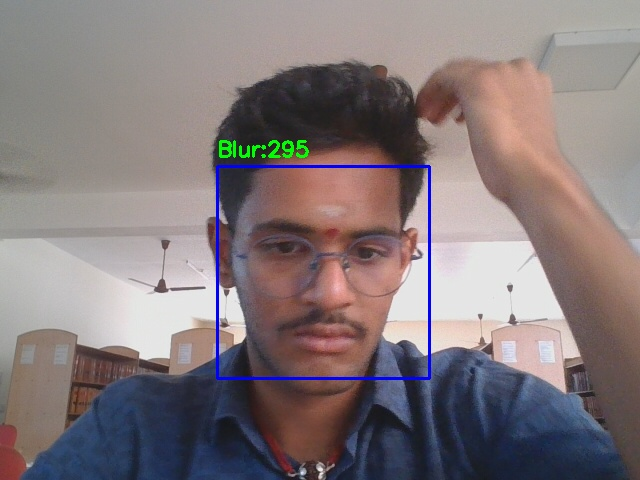real: (217, 166, 429, 378)
